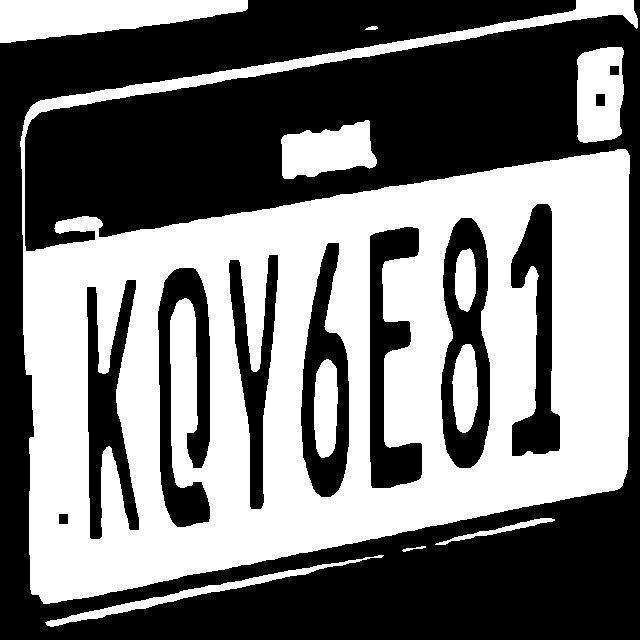1: (506, 192, 568, 465)
6: (296, 224, 356, 506)
8: (436, 202, 494, 477)
e: (364, 211, 429, 496)
k: (89, 282, 157, 565)
q: (153, 260, 215, 538)
y: (222, 244, 290, 524)
